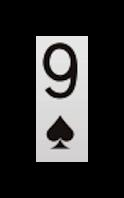9S: (40, 39, 80, 154)
